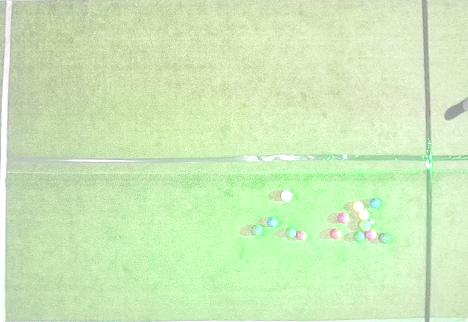blue: (370, 198, 381, 208), (267, 217, 278, 227)
green: (358, 220, 371, 231), (251, 225, 263, 236), (379, 233, 391, 243), (286, 228, 296, 238), (354, 232, 364, 242)
red: (330, 228, 342, 240), (281, 190, 293, 201), (338, 213, 349, 224), (366, 230, 377, 240), (297, 231, 307, 241)
vline: (421, 0, 467, 321), (0, 0, 15, 321)
white: (370, 219, 375, 224)
yellow: (353, 201, 364, 212), (359, 210, 369, 219)
